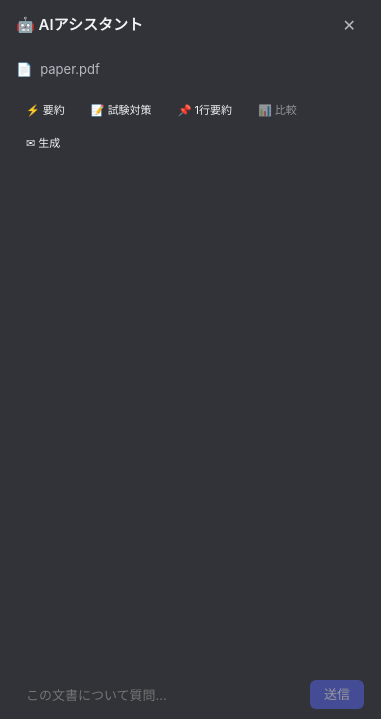
Test: DocAIPanel › shows an error when the streaming pipeline reports an error
Type "q?" into the field with placeholder "この文書について質問...".
click(160, 695); type("q?")  # box [16,680,304,709]
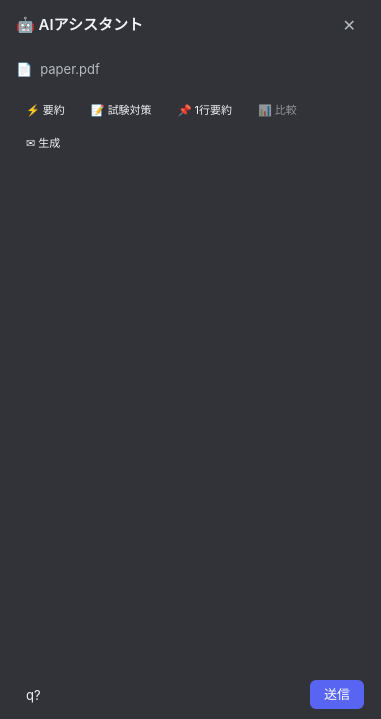
Click the button "送信".
click(337, 695)  # box [310,680,364,709]
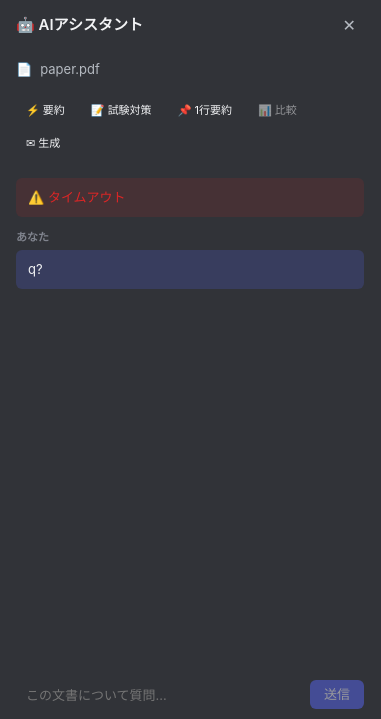
Check: the message shows "タイムアウト", box [48,189,126,205]
